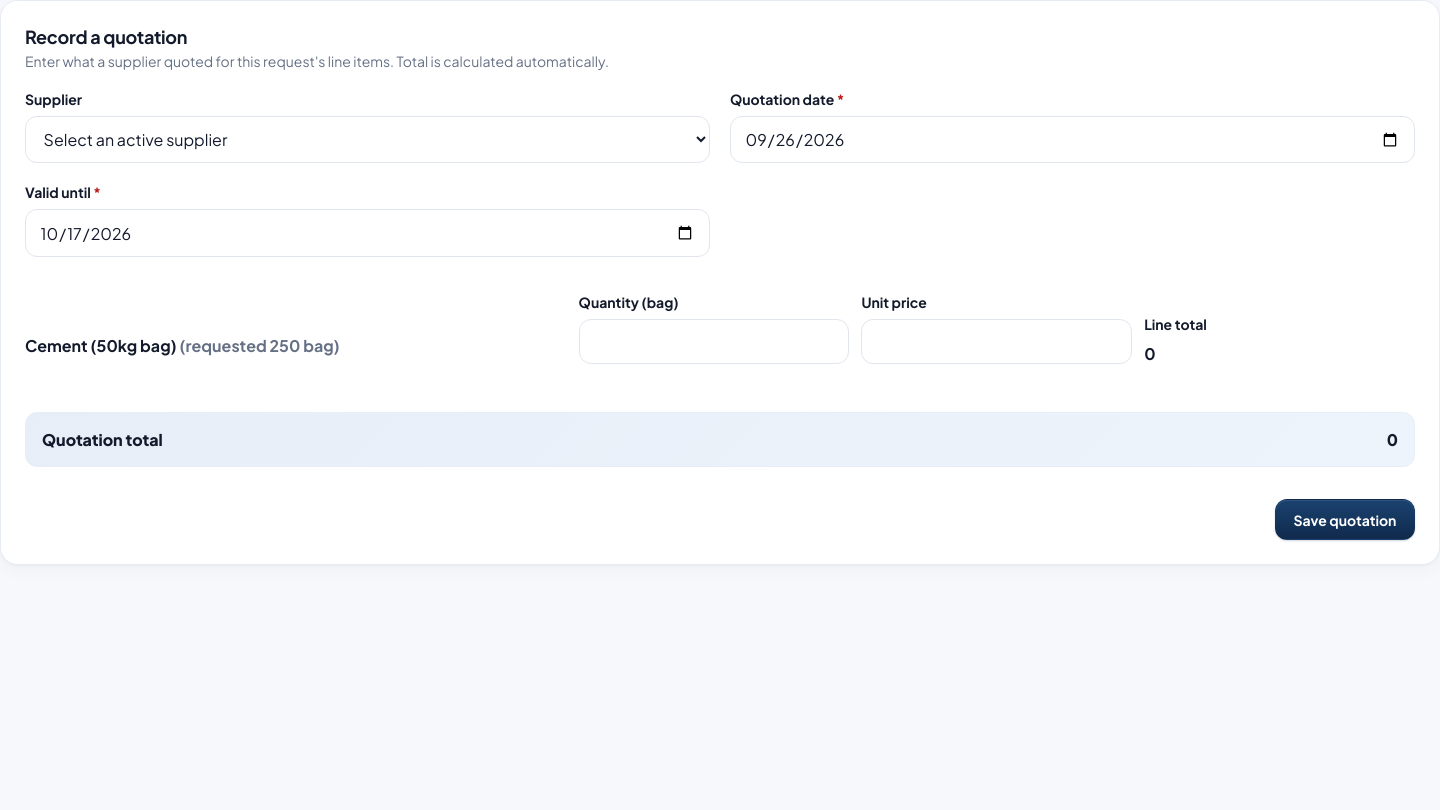
QuotationEntryForm validation › requires a supplier before it will submit
Click the button "Save quotation" at coordinates (1345, 520), box [1275,499,1415,540]
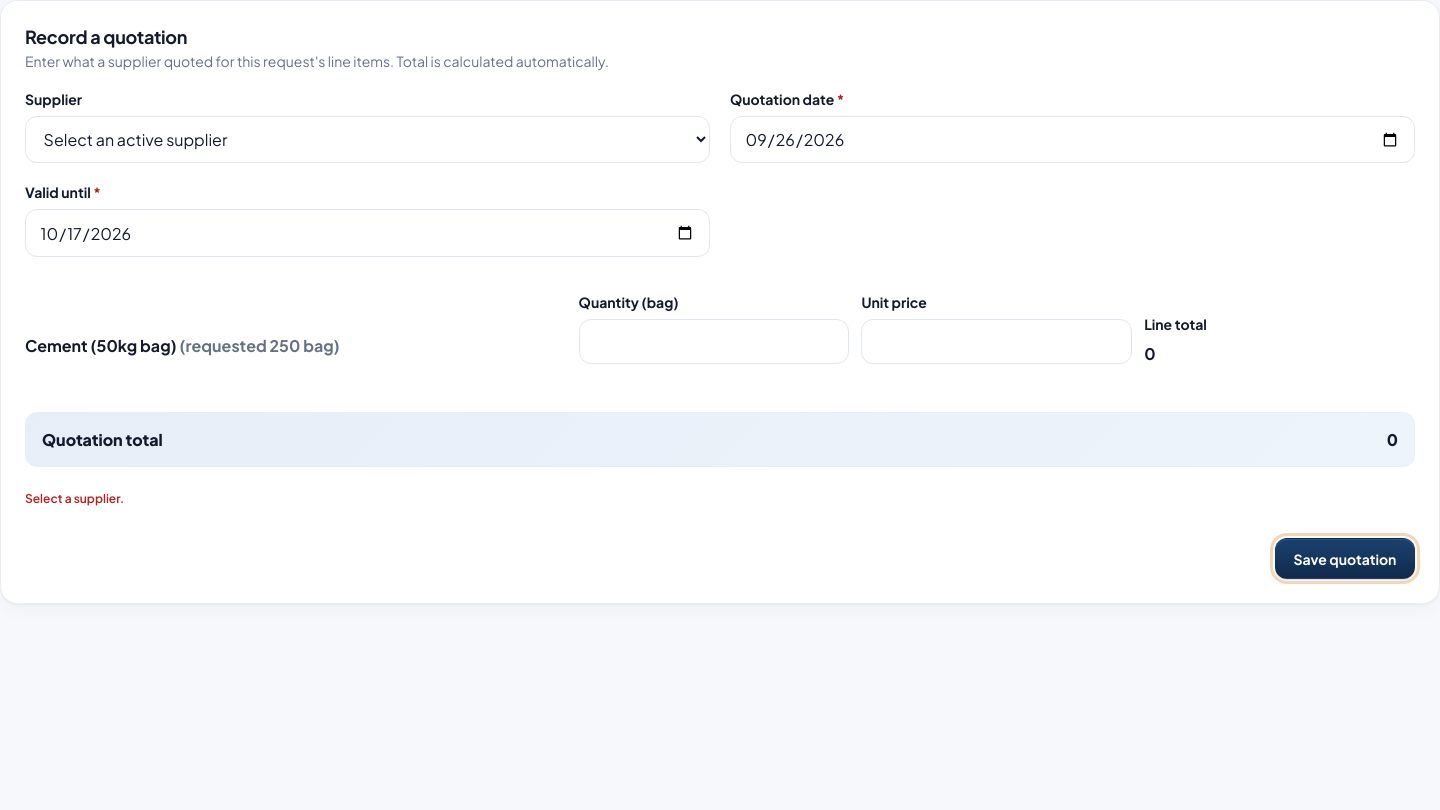
Expected: the text "Select a supplier." is shown, [25,491,124,506]
